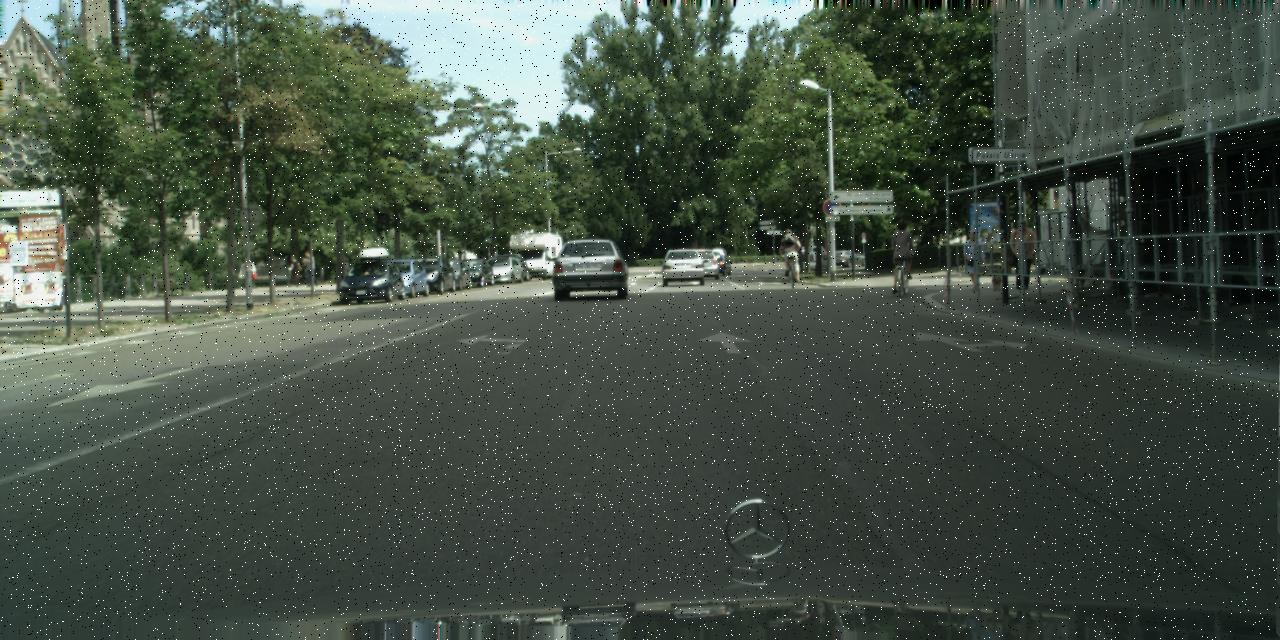ped: (1008, 219, 1036, 289), (887, 220, 915, 288), (959, 230, 985, 292), (780, 229, 800, 278), (240, 255, 256, 297), (302, 250, 316, 286), (286, 255, 299, 286)
